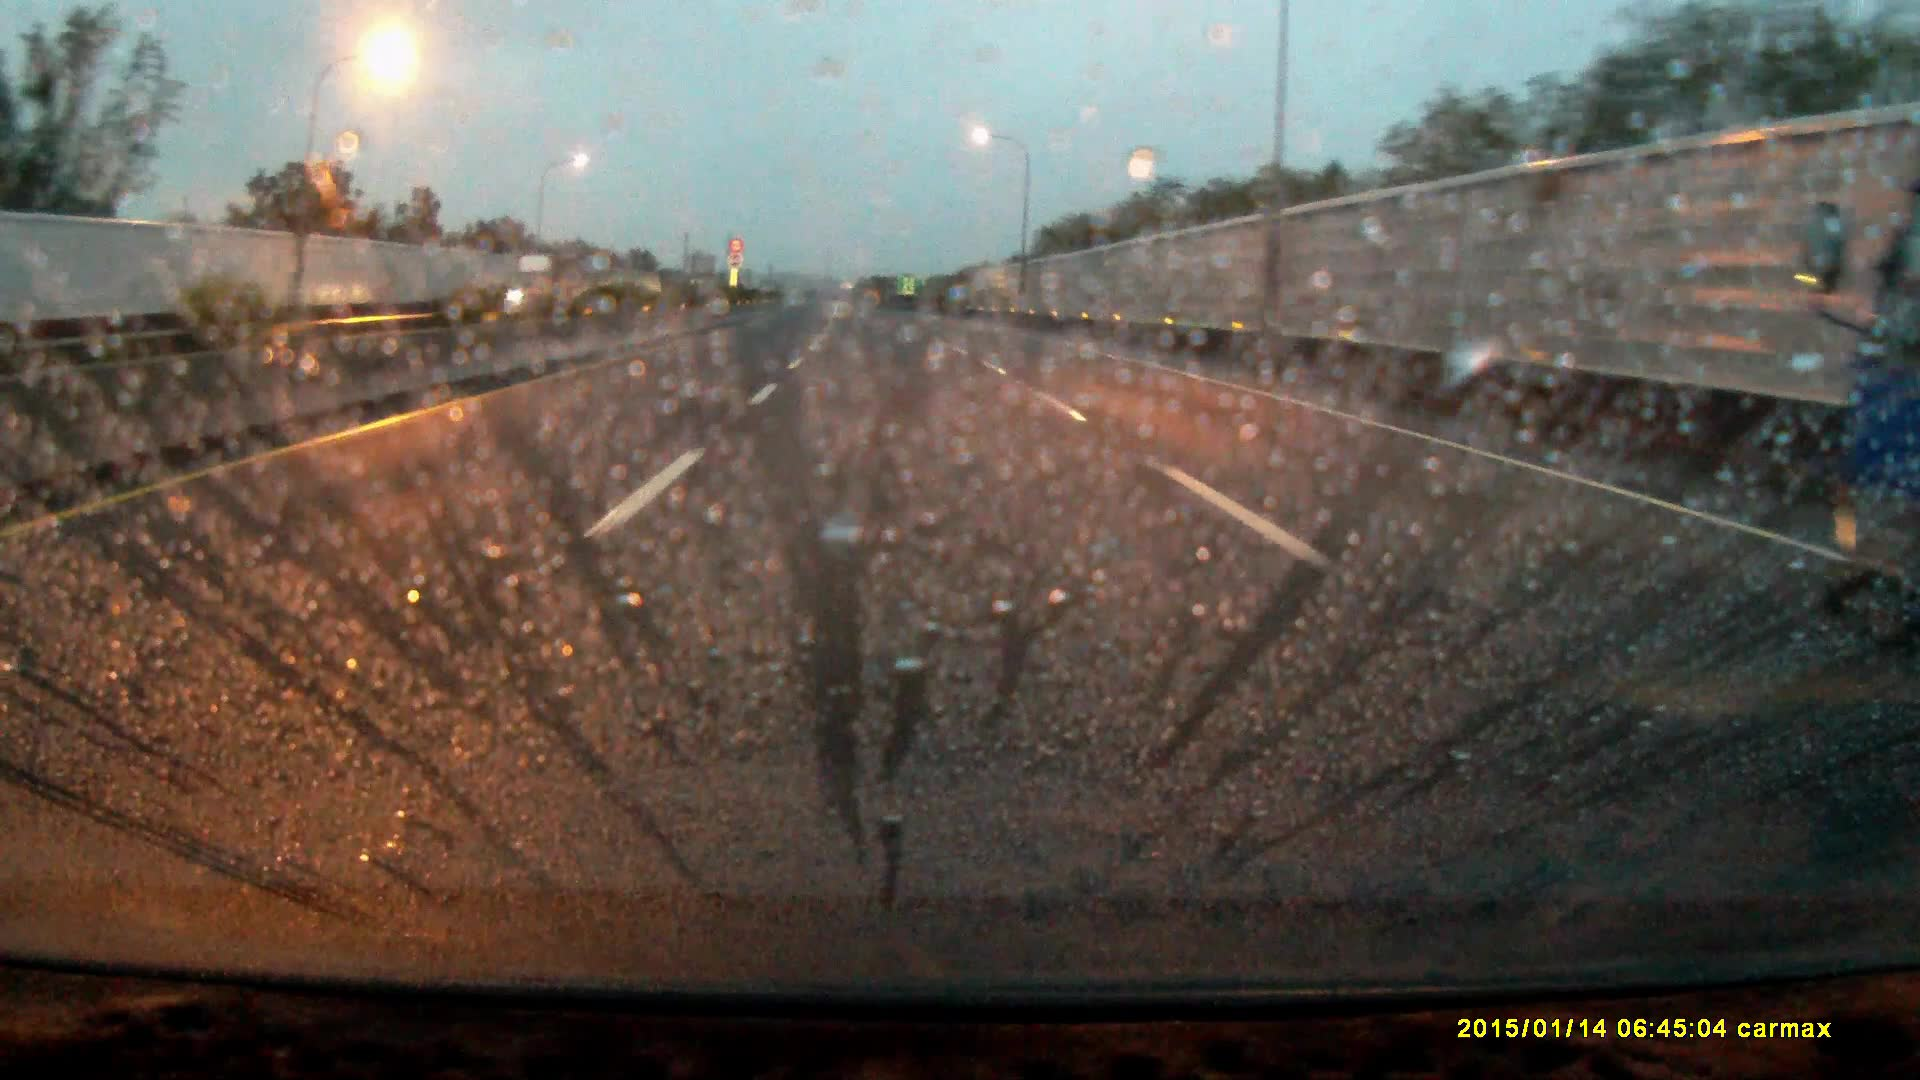vehicle: (508, 252, 568, 311)
